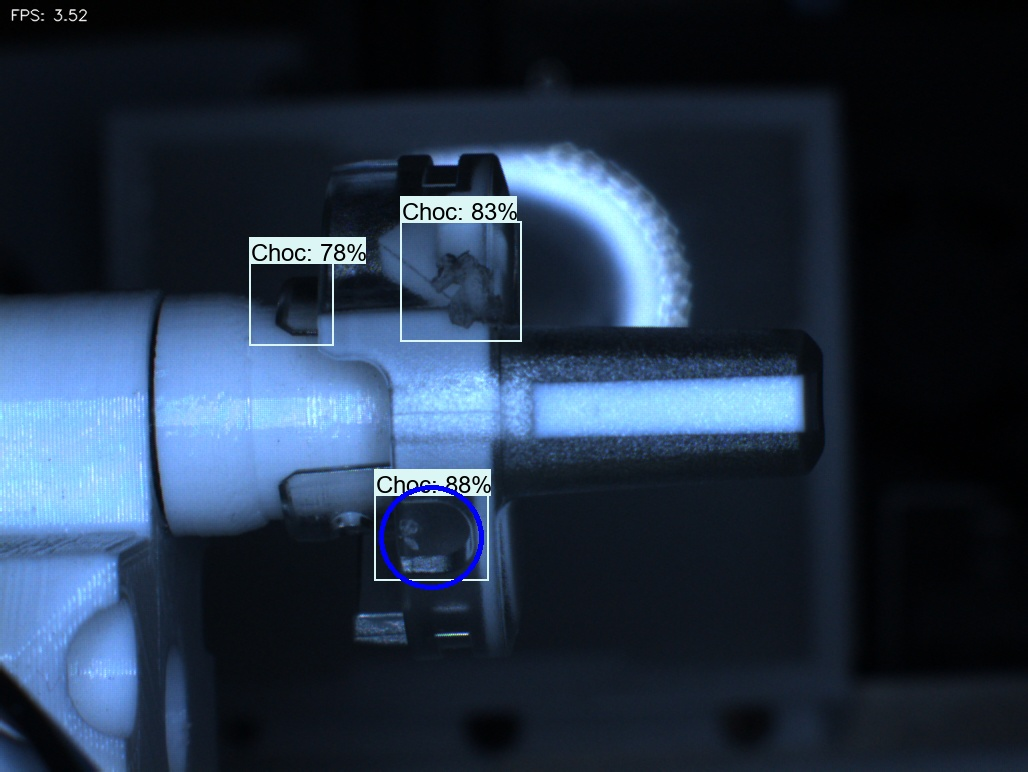DentOk: (353, 201, 423, 298)
